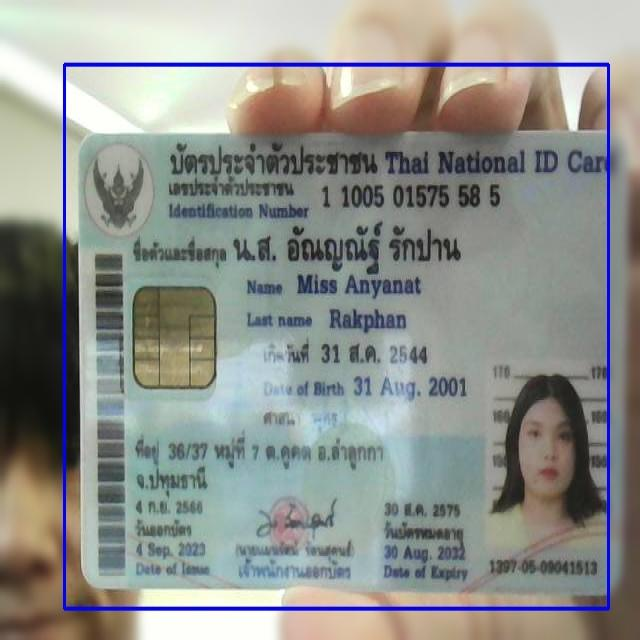Address_th: (129, 427, 387, 497)
Date_of_Birth: (350, 372, 472, 404)
Date_of_Expiry: (382, 538, 467, 566)
Date_of_Issue: (130, 539, 210, 562)
First_Name: (294, 274, 426, 300)
ID_Number: (316, 179, 506, 216)
Image: (488, 361, 604, 554)
Last_Name: (325, 302, 410, 336)
Thai_Name: (229, 218, 466, 276)
